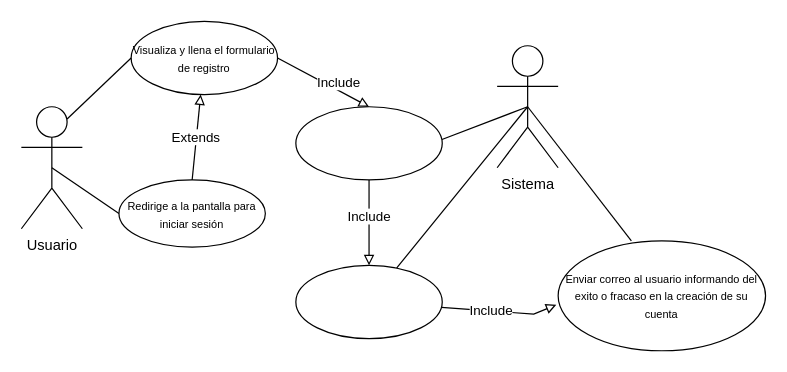
This 787x372 diagram has some shape labels left out. The shapes that lost their labels are listed below. From the top down, each one's centre as x and y in pixels, then its label:
At [368,143]: "Validar los datos de registro".
At [368,301]: "Enviar correo al administrador para la revision de la cedula".
